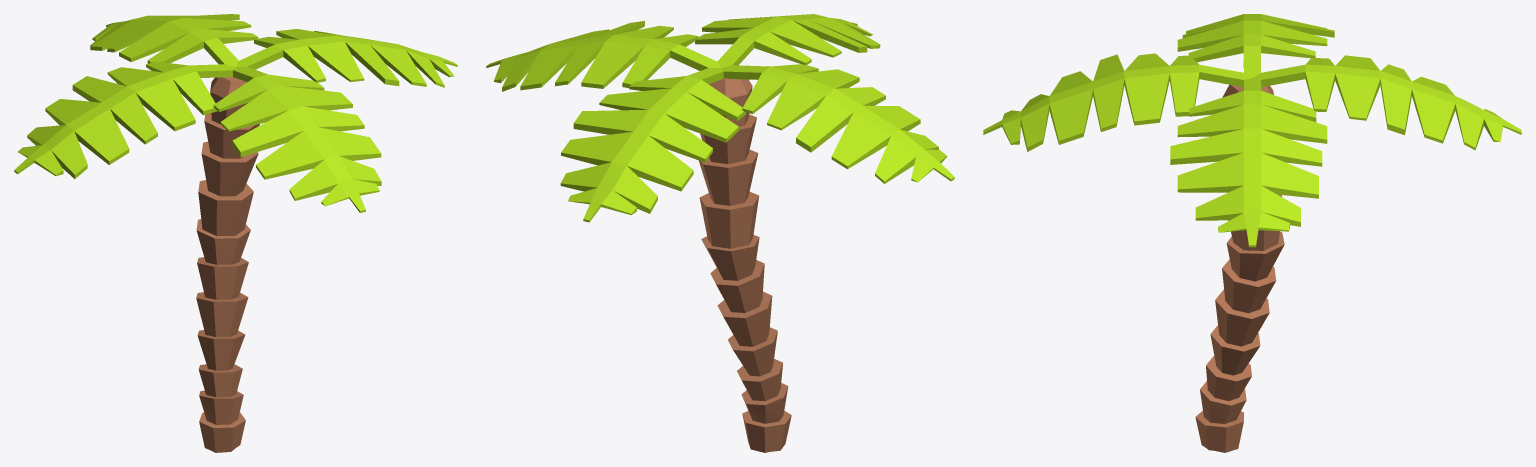
File: BigPalmTree.obj
The picture shows the model from 3 angles, left to right: view 1: azimuth 30°, elevation 25°; view 2: azimuth 150°, elevation 25°; view 3: azimuth 270°, elevation 25°; orthographic projection. The views are drawn at different scales.
Visible parts, largest first — view 1: Cylinder.000; view 2: Cylinder.000; view 3: Cylinder.000.
Boxes of the visible parts, x1,y1,x2,y2 form: Cylinder.000: (14, 14, 457, 452); Cylinder.000: (486, 14, 954, 452); Cylinder.000: (983, 14, 1521, 452).
Size of the model in its own units: 6.67 by 5.36 by 6.67.
Materials: 1 (1 with a texture image).
